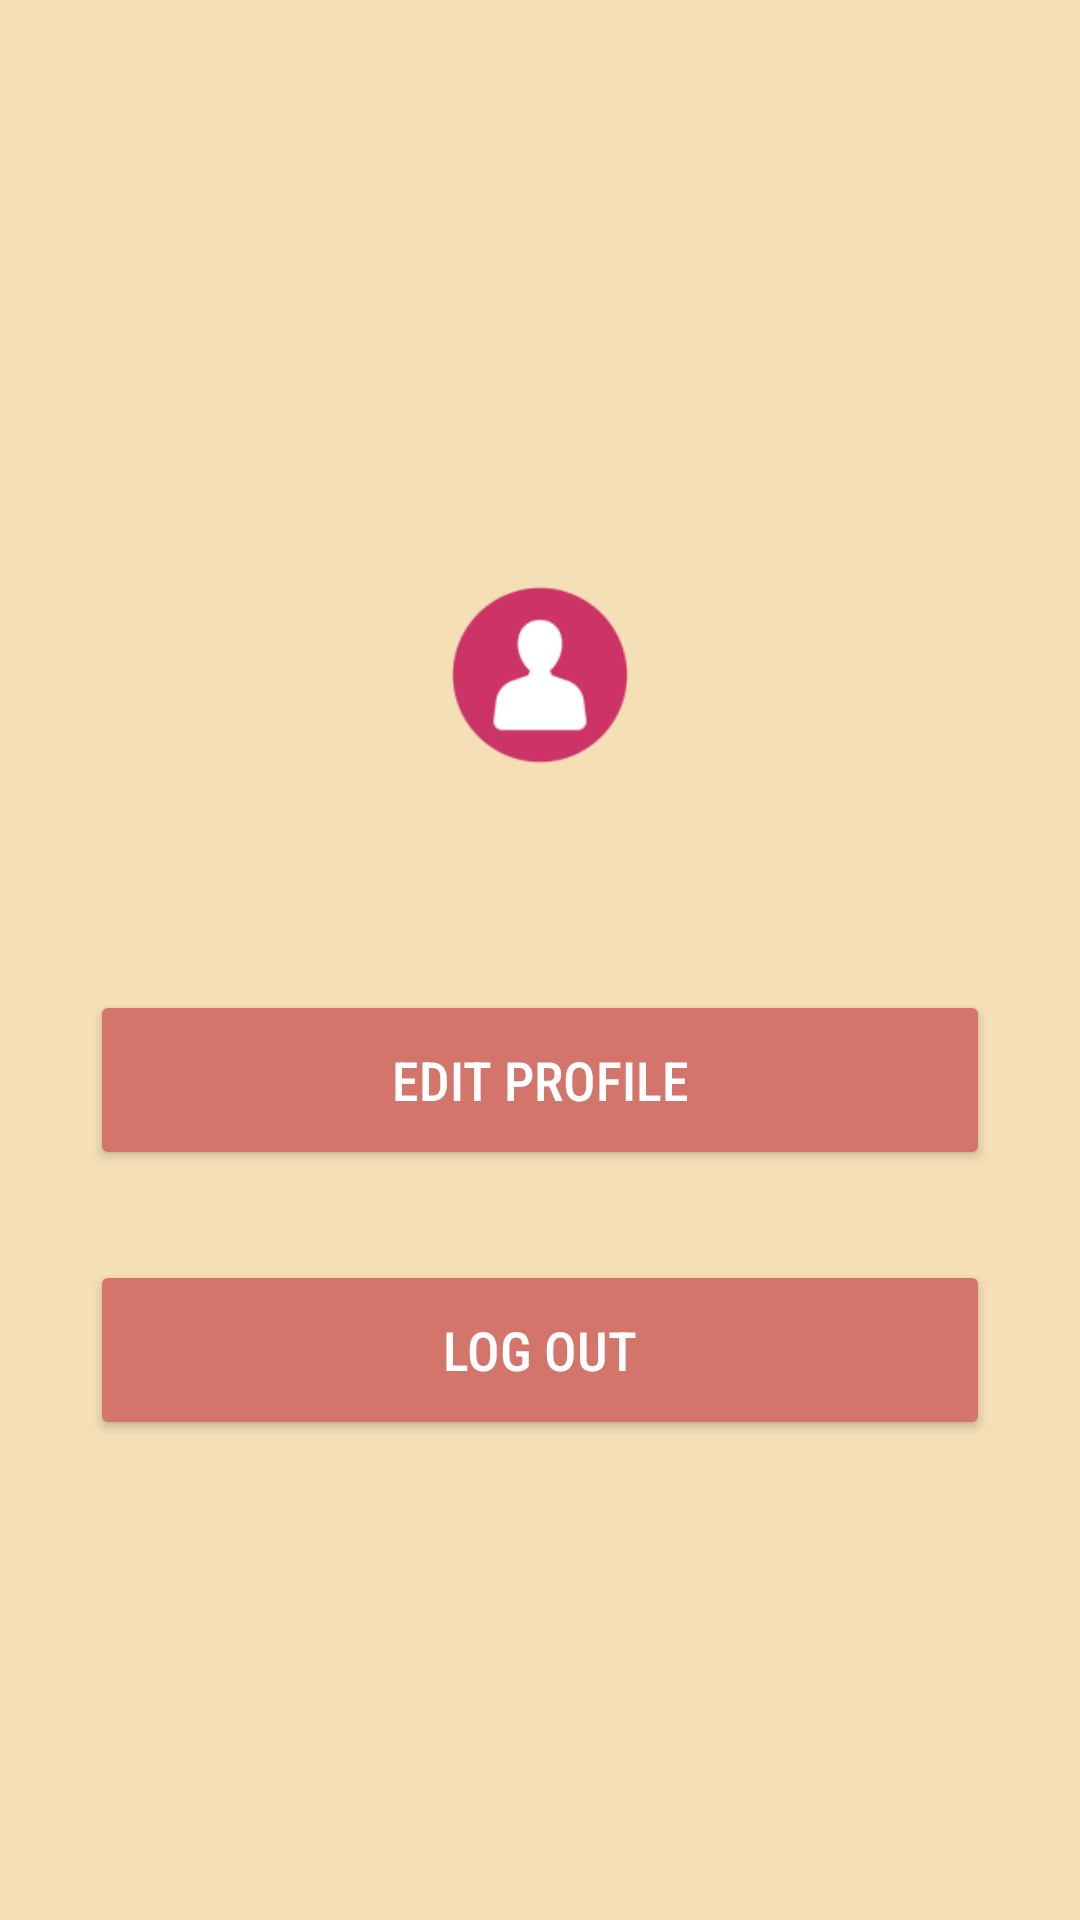

Named icons in this screenshot (1080×1920) and their centers, (x,y):
user: (540,675)
